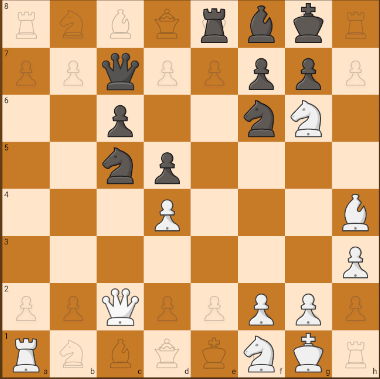bb: (240, 3, 284, 45)
bk: (286, 0, 331, 47)
bn: (99, 144, 142, 188)
bp: (290, 331, 332, 377), (147, 145, 188, 187), (241, 48, 280, 92), (243, 97, 281, 140), (290, 52, 329, 92), (101, 100, 140, 139)
bq: (99, 49, 140, 92)
br: (197, 5, 234, 44)
wb: (337, 194, 376, 234)
wn: (287, 100, 329, 140), (241, 334, 278, 374)
wp: (240, 287, 281, 328), (336, 240, 374, 280), (291, 288, 327, 329), (149, 198, 187, 234)
wq: (100, 287, 142, 328)
wr: (3, 335, 48, 374)
